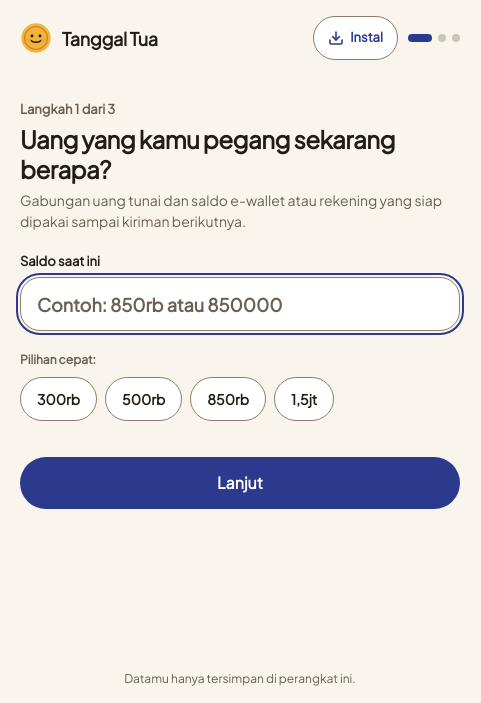
Onboarding & TransactionSheet (Milestone M4) › walks through 3 onboarding steps, calculates initial daily allowance, and saves settings
Later steps or results of the test are not shown.
Note: Enter balance 845rb
Type "845rb" into the field labelled "Saldo saat ini".
click(240, 304); type("845rb")  # box [20, 277, 460, 331]
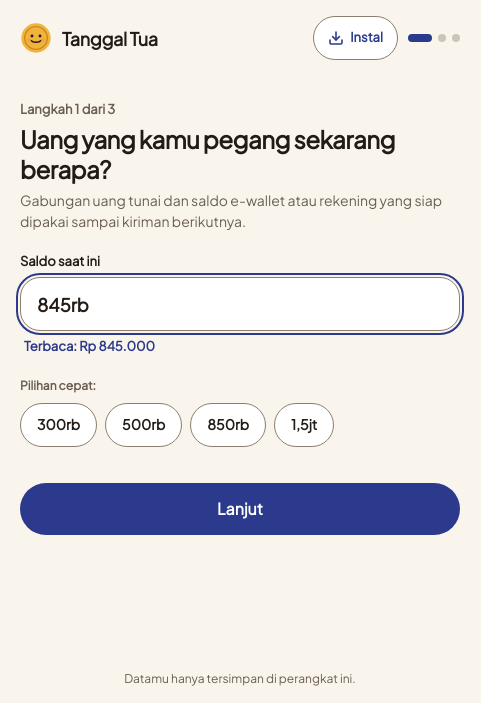
Click the button "Lanjut".
click(240, 508)  # box [20, 482, 460, 534]
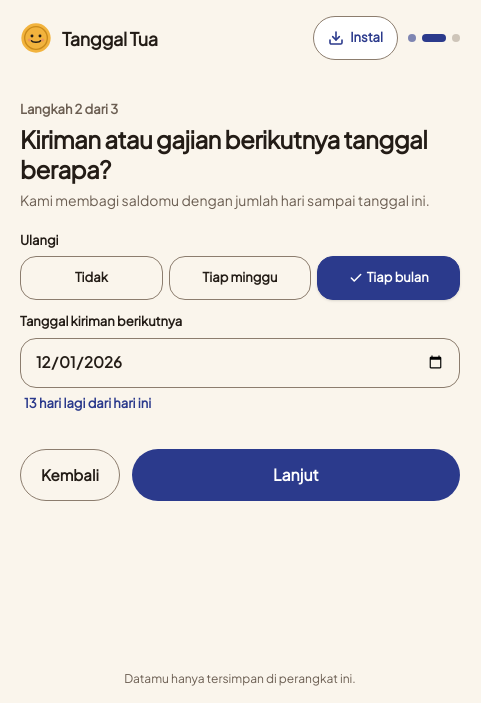
Now the text "13 hari lagi dari hari ini" is shown, box [24, 394, 151, 410]
Click the button "Lanjut".
click(296, 475)  # box [132, 449, 460, 501]
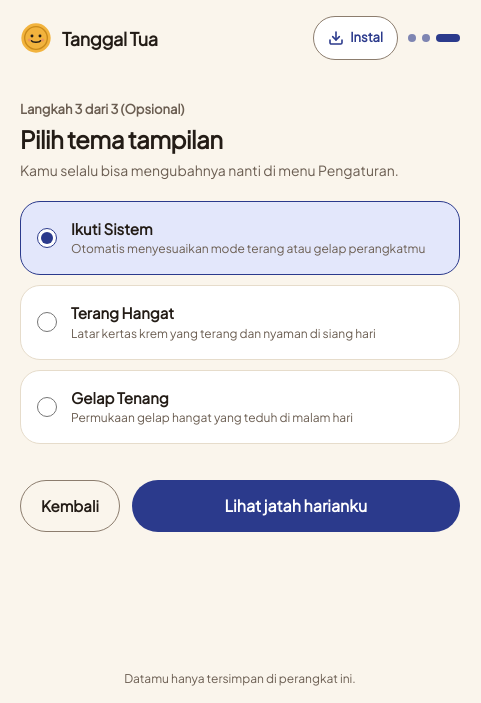
Click the button "Lihat jatah harianku".
click(296, 506)  # box [132, 480, 460, 532]
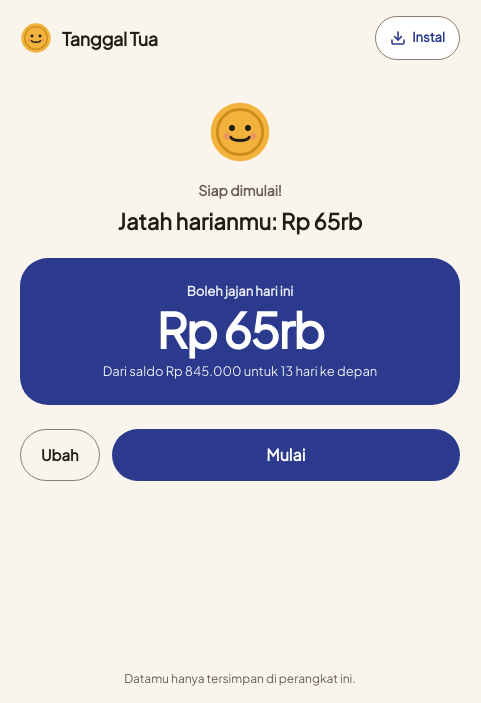
Now the text with test id "onboarding-final-allowance" reads "Rp 65rb", box [156, 298, 323, 360]
